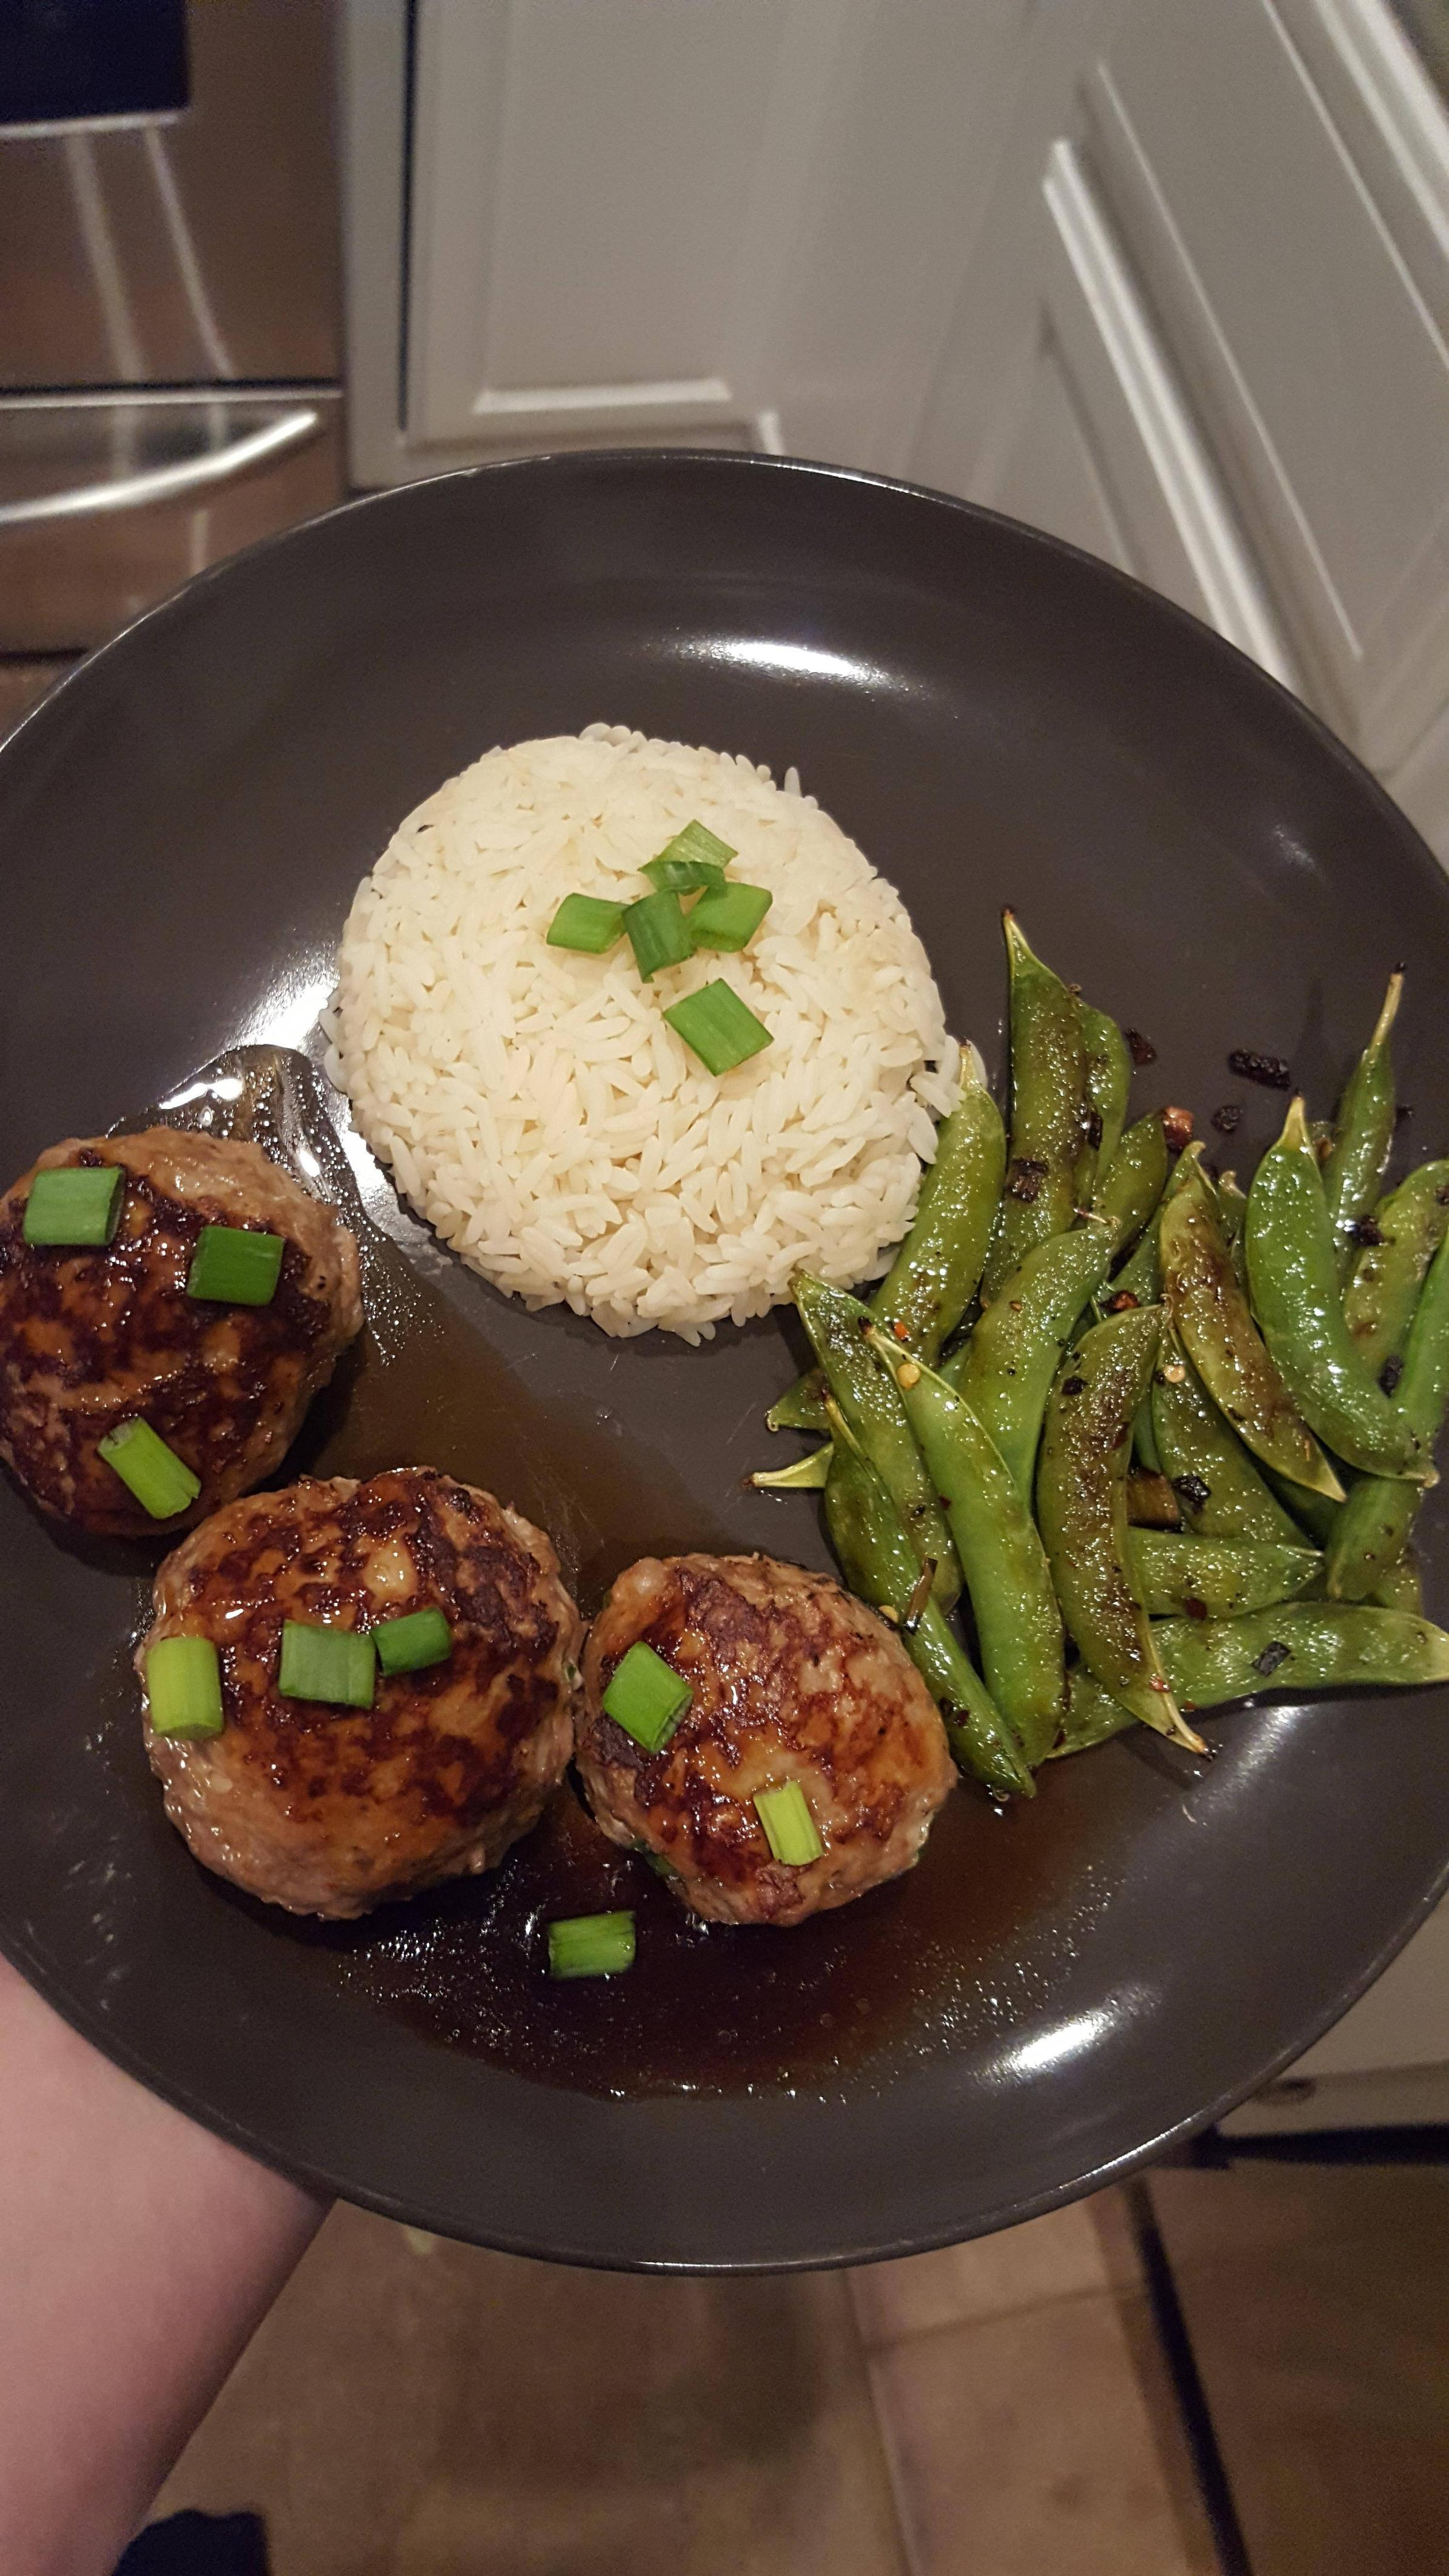meatballs: (140, 1470, 945, 1950), (0, 1127, 338, 1522)
plain rice: (343, 750, 964, 1325)
